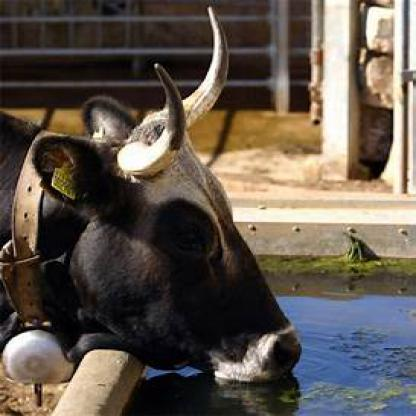cow: (0, 7, 302, 388)
